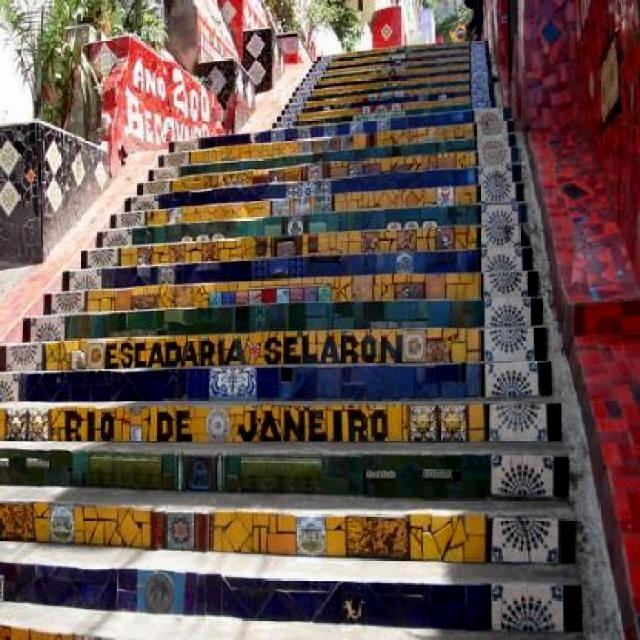stair: (68, 23, 503, 640)
